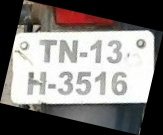character: (58, 37, 78, 64), (26, 69, 46, 95), (38, 37, 57, 63), (110, 70, 127, 95), (75, 70, 91, 95), (57, 70, 72, 95), (106, 39, 121, 63), (93, 71, 106, 95), (89, 38, 101, 63)
